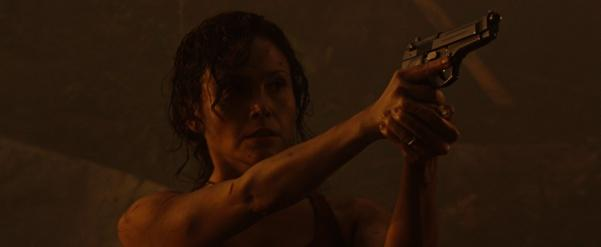Gun: (397, 10, 502, 93)
